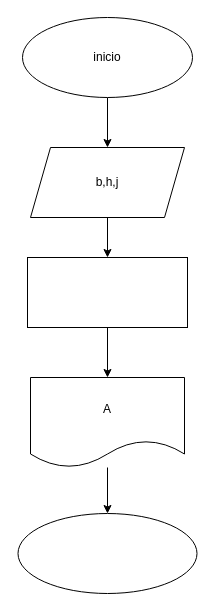
Image size: 214x611. Some labels were removed from this diagram. The shapes that lost their labels are listed below. From the top down, each one's box as (x1, y1, x2, y2) in pixels, then its label:
(26, 256, 188, 328): A=b*j+b*h/2
(17, 512, 197, 594): fin
